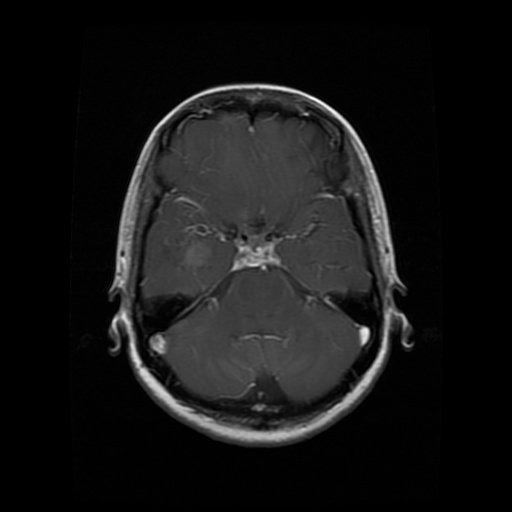glioma: (162, 221, 216, 274)
